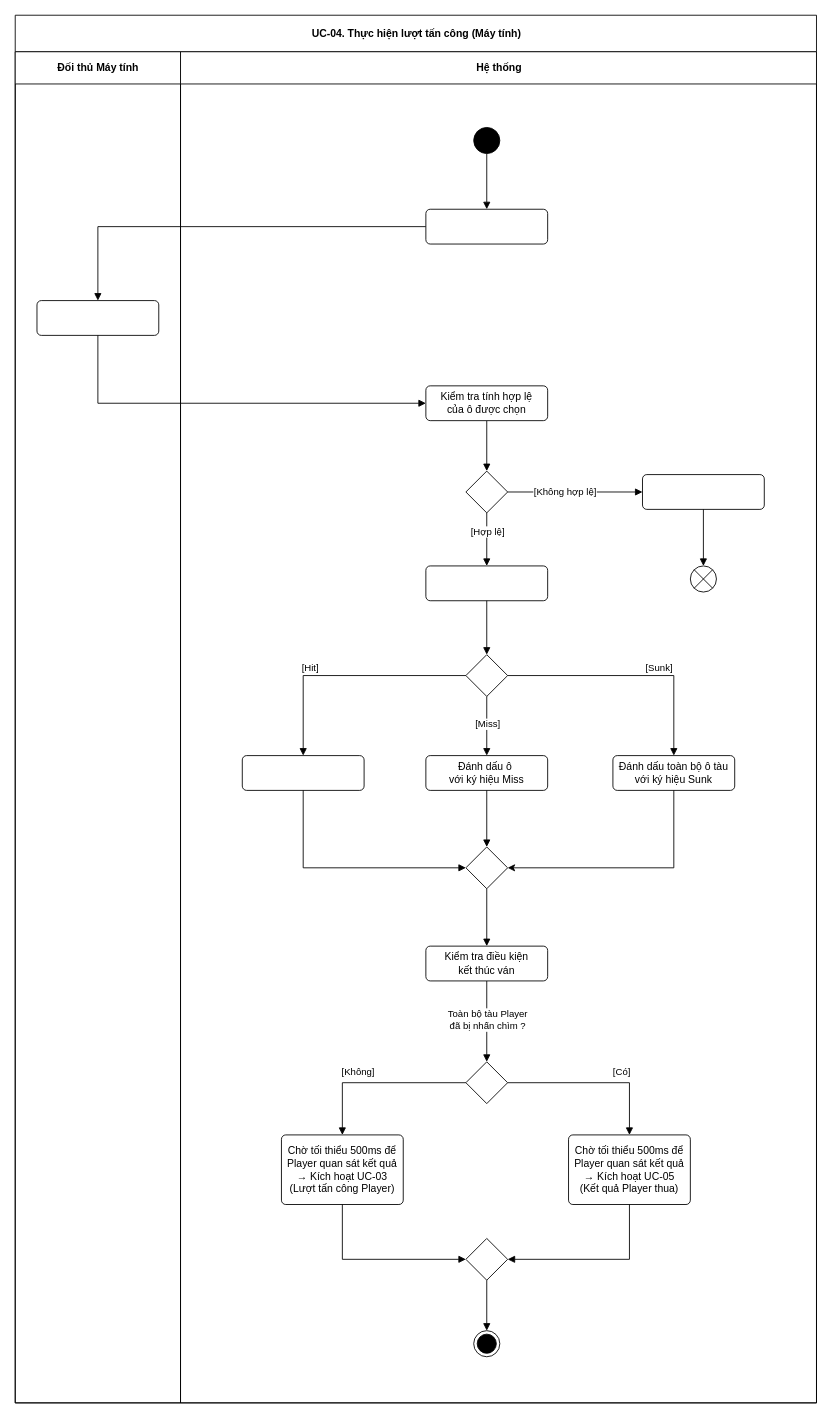
The diagram is 832 pixels wide and 1418 high, and some of its shapes have lost their labels. Here are the shapes that lost their labels. From the top down, the centre of each, then its label:
pixel 486 226: Nhận tín hiệu bắt đầu lượt Máy tính
pixel 97 317: Chọn một ô chưa bị tấn công trên bảng Player
pixel 703 491: Thông báo lỗi "Kết quả lượt chơi gặp lỗi"
pixel 486 583: Xác định kết quả tấn công
pixel 302 772: Đánh dấu ô với ký hiệu Hit
